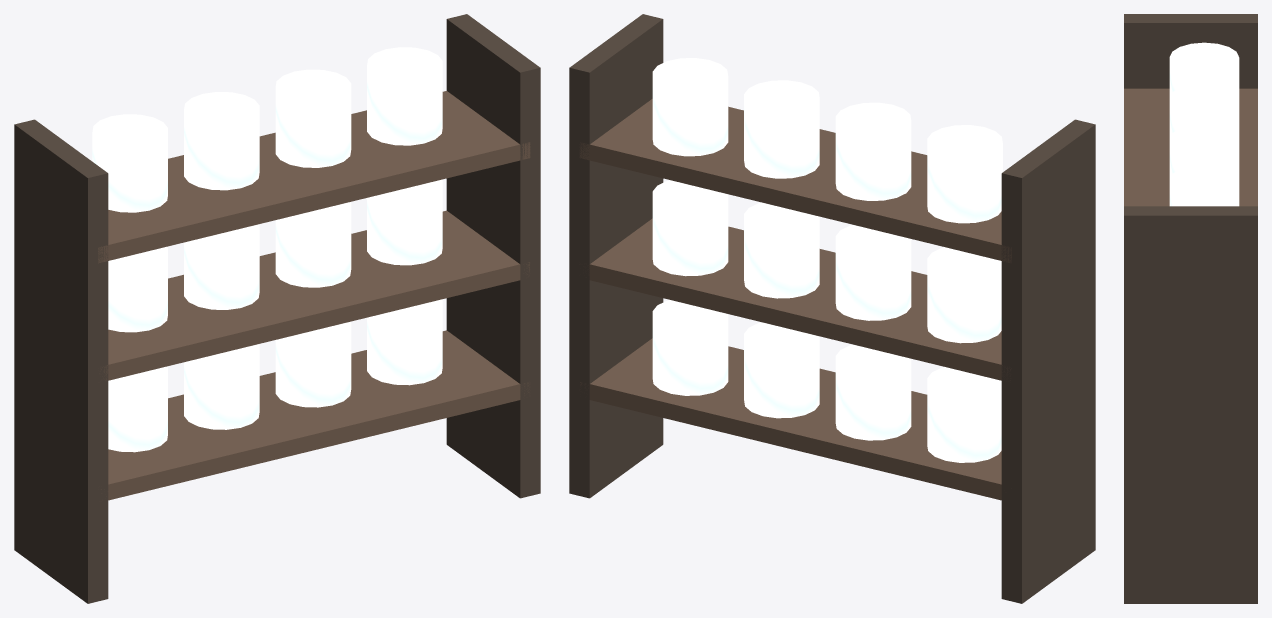
The model's file is prop_dagashi_dana.glb.
3 views of the same model, side by side, from view 1: azimuth 30°, elevation 25°; view 2: azimuth 150°, elevation 25°; view 3: azimuth 270°, elevation 25° (orthographic). The views are drawn at different scales.
Parts seen in each view (by area): view 1: dagashi_dana; view 2: dagashi_dana; view 3: dagashi_dana.
Boxes of the visible parts, x1,y1,x2,y2 form: dagashi_dana: (14,14,540,603); dagashi_dana: (569,14,1095,603); dagashi_dana: (1124,14,1257,603).
Bounding box in the file's own units: 1.78 × 1.6 × 0.5.
